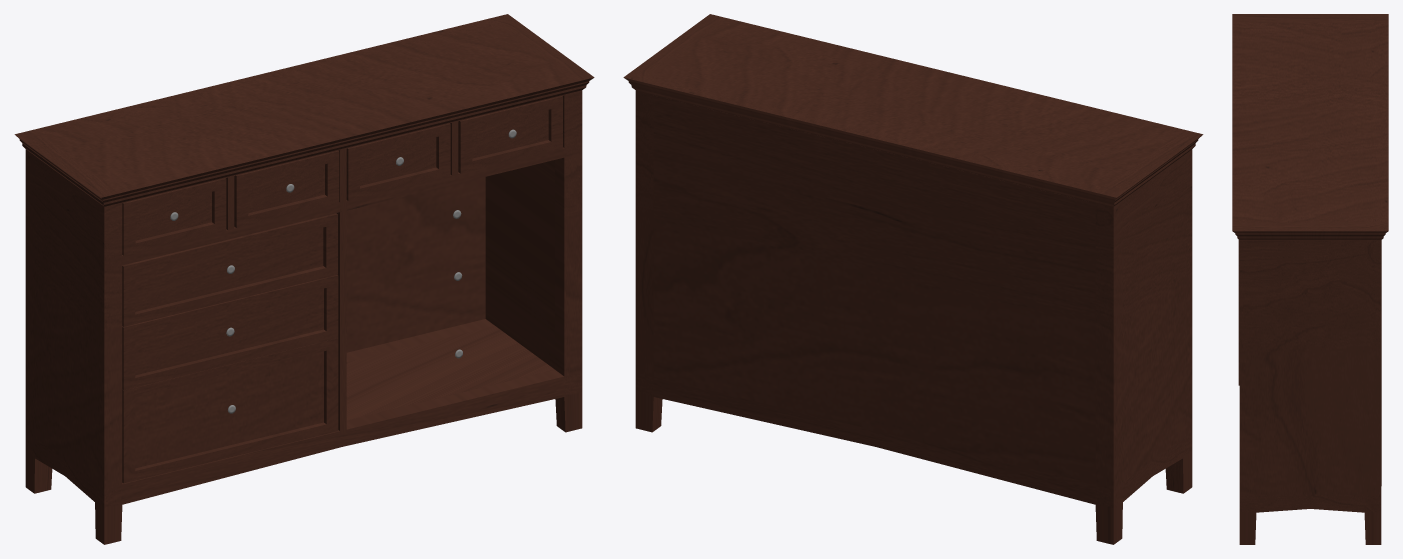
3 renders of one model, left to right at view 1: azimuth 30°, elevation 25°; view 2: azimuth 150°, elevation 25°; view 3: azimuth 270°, elevation 25°, orthographic. The views are drawn at different scales.
Visible parts, largest first — view 1: Cube, Cube.015, Cube.011, Cube.007, Cube.003, Cube.001, Cube.009, Cube.005, Cube.019; view 2: Cube; view 3: Cube.
Boxes of the visible parts, box(x1,y1,x2,y2) form: Cube: box(14, 14, 594, 544); Cube.015: box(122, 338, 338, 483); Cube.011: box(122, 275, 338, 390); Cube.007: box(122, 213, 337, 326); Cube.003: box(234, 150, 339, 227); Cube.001: box(122, 178, 226, 255); Cube.009: box(458, 96, 562, 173); Cube.005: box(346, 123, 450, 200); Cube.019: box(336, 147, 346, 433); Cube: box(623, 14, 1203, 544); Cube: box(1232, 14, 1388, 544).
Bounding box in the file's own units: 1.56 × 1.07 × 0.4762.
Materials: 2 (1 with a texture image).
